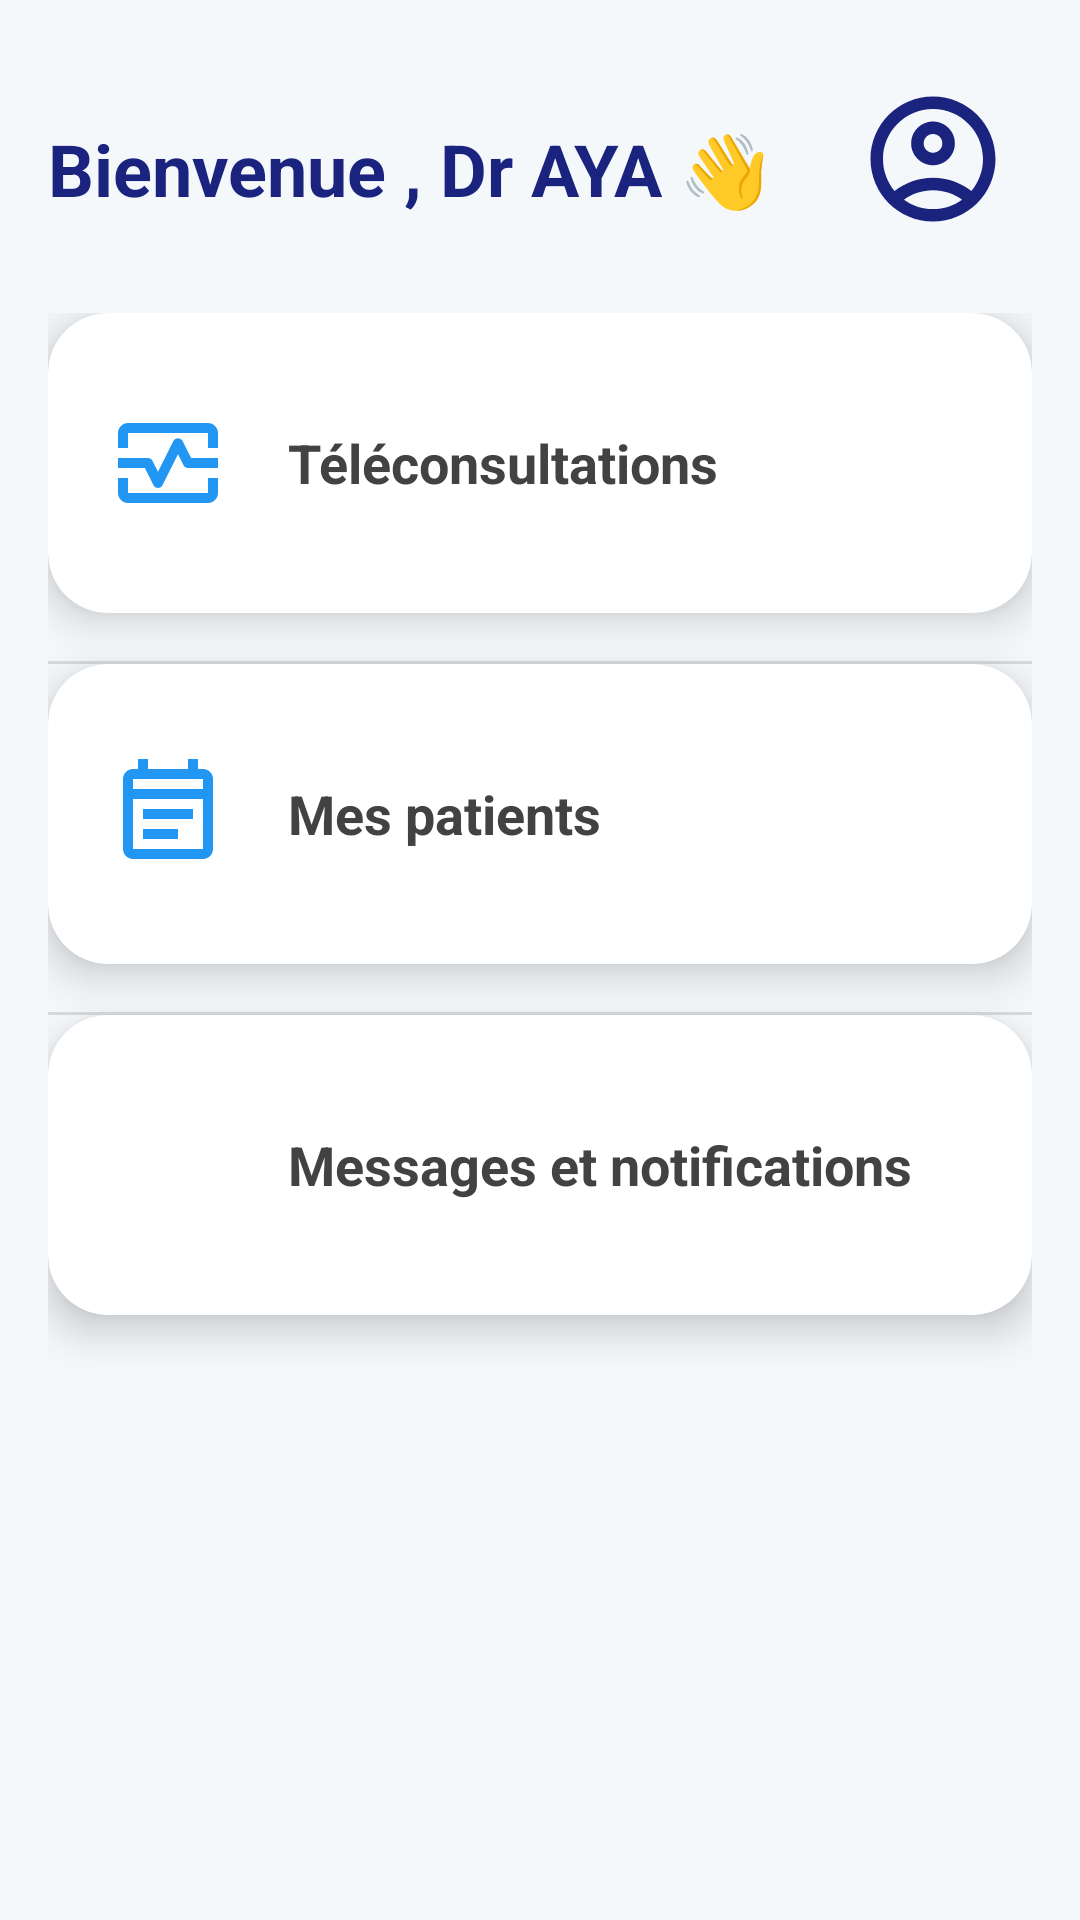

Named icons in this screenshot (1080px×1920px) and their bounding boxes, {"left": x1, "top": y1, "right": x2, "bottom": y2}:
account: {"left": 870, "top": 96, "right": 996, "bottom": 222}
event: {"left": 123, "top": 759, "right": 213, "bottom": 859}
heart: {"left": 118, "top": 423, "right": 218, "bottom": 503}
